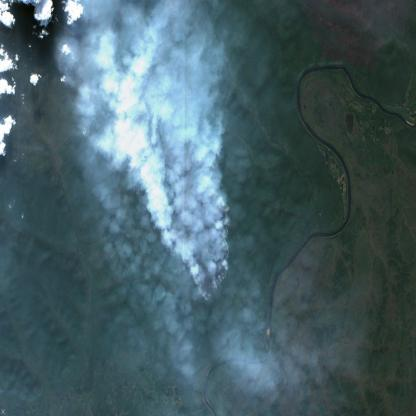fire: (151, 189, 234, 312)
